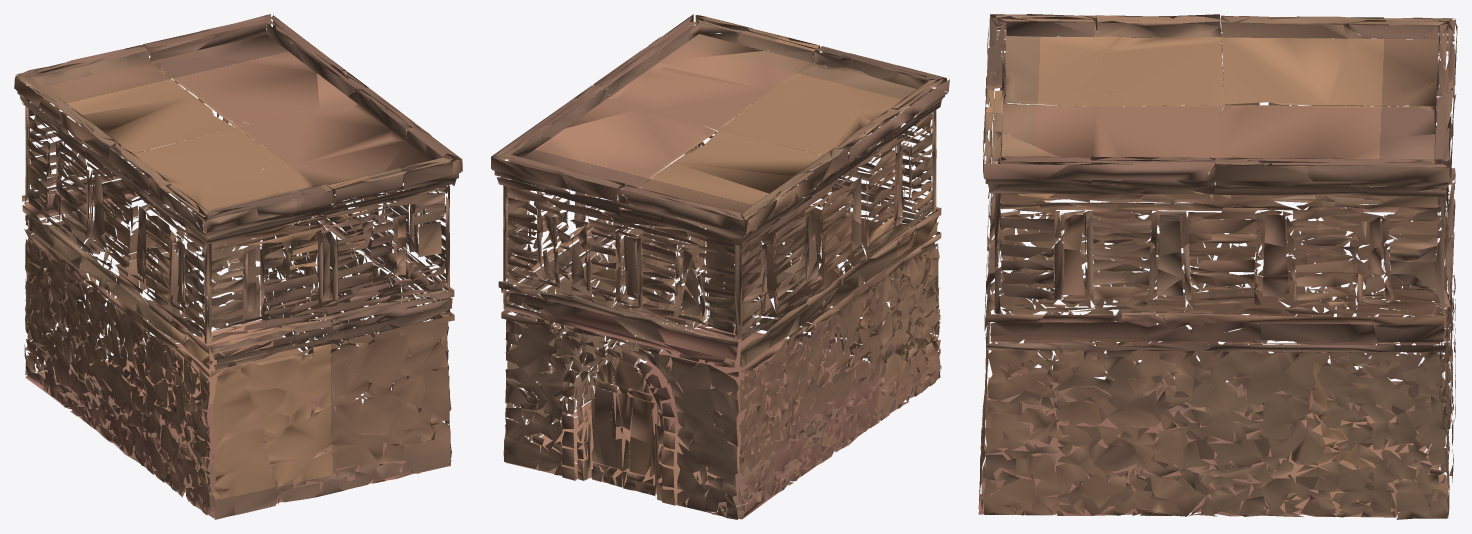
File: bank.glb
3 views of the same model, side by side, from view 1: azimuth 30°, elevation 25°; view 2: azimuth 150°, elevation 25°; view 3: azimuth 270°, elevation 25° (orthographic). The views are drawn at different scales.
Parts seen in each view (by area): view 1: LO.001; view 2: LO.001; view 3: LO.001.
Part boxes in pixels (x1=…): LO.001: x1=14, y1=14, x2=462, y2=519; LO.001: x1=491, y1=14, x2=949, y2=519; LO.001: x1=978, y1=14, x2=1457, y2=519.
Bounding box in the file's own units: 1.45 × 1.6 × 1.92.
1 material, 1 textured.
